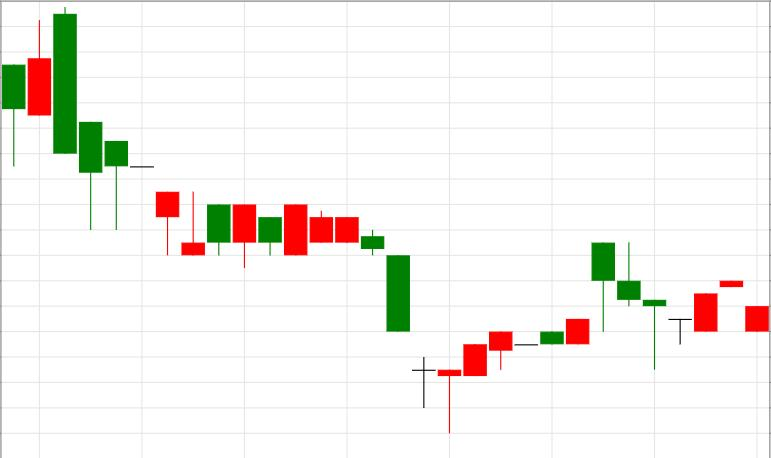hammer_rise: (54, 5, 179, 257)
hanging_man_fall: (438, 243, 615, 432)
